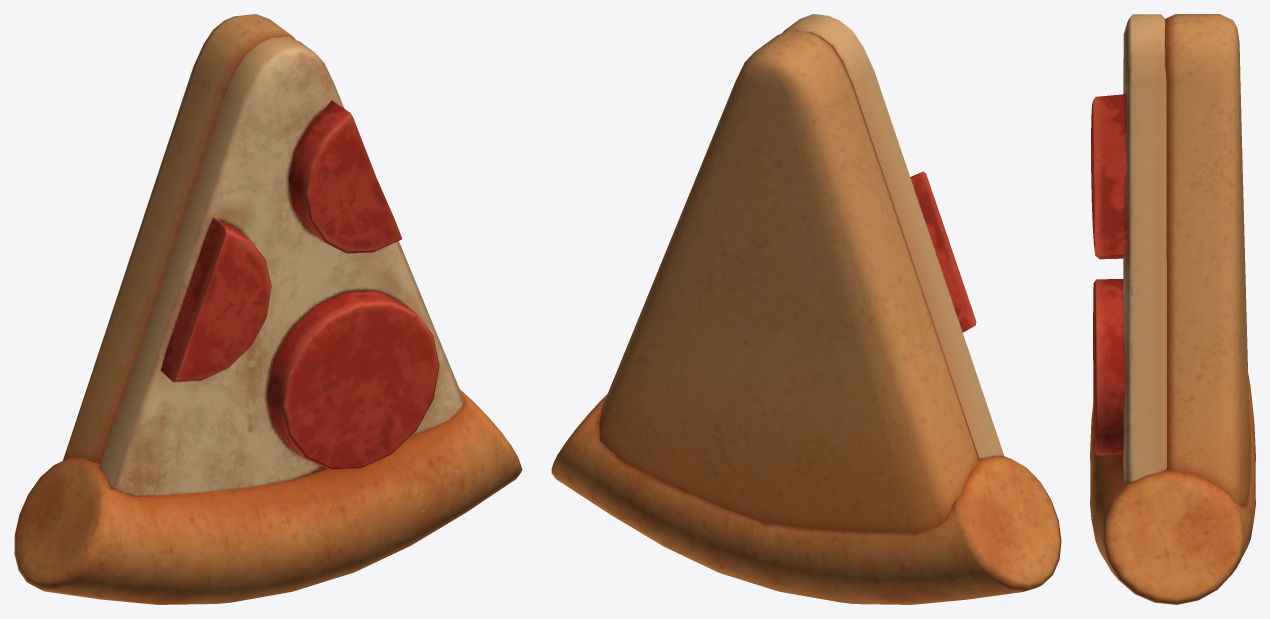
The model's file is 0-pizza.fbx.
3 renders of one model, left to right at view 1: azimuth 30°, elevation 25°; view 2: azimuth 150°, elevation 25°; view 3: azimuth 270°, elevation 25°, orthographic. The views are drawn at different scales.
Visible parts, largest first — view 1: 0-pizza; view 2: 0-pizza; view 3: 0-pizza.
Boxes of the visible parts, bbox=[...] form: 0-pizza: bbox=[14, 14, 522, 604]; 0-pizza: bbox=[551, 14, 1061, 604]; 0-pizza: bbox=[1090, 14, 1255, 604].
Size of the model in its own units: 87.72 by 97.33 by 27.49.
